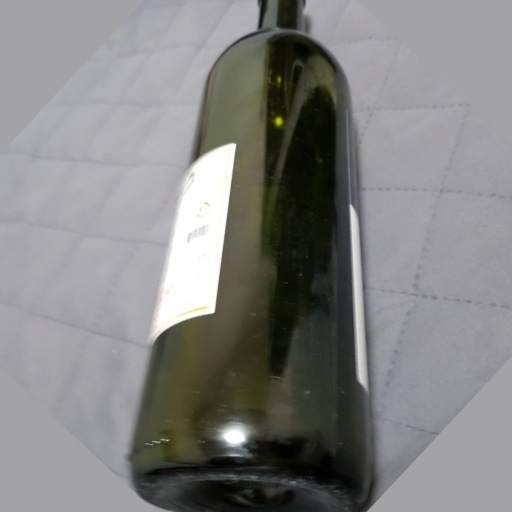Glass_2: (130, 3, 379, 512)
